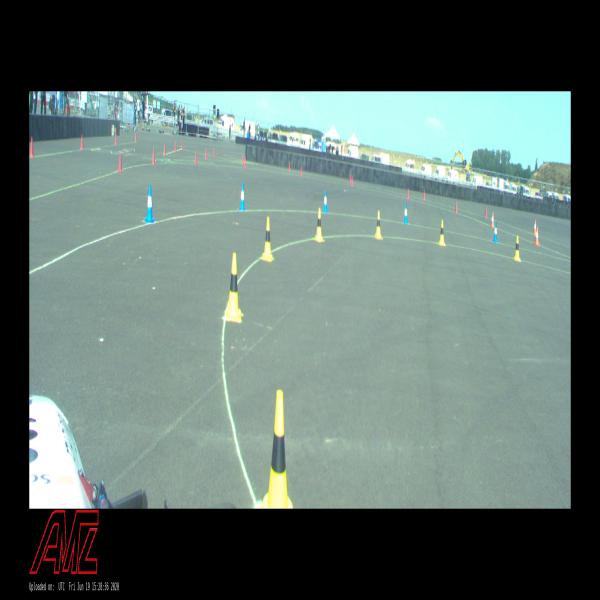blue_cone: (144, 185, 156, 223), (239, 183, 246, 210), (322, 190, 327, 213), (403, 203, 408, 224), (493, 222, 498, 242)
orange_cone: (534, 227, 540, 246), (490, 212, 494, 228), (532, 220, 536, 234)
unknown_cone: (29, 137, 34, 156), (118, 153, 122, 172), (80, 134, 84, 150), (152, 149, 156, 165), (163, 144, 166, 154), (195, 151, 197, 164), (351, 175, 353, 186), (407, 188, 409, 199), (455, 202, 457, 213), (485, 206, 487, 217), (115, 134, 117, 144), (135, 132, 137, 142), (205, 149, 207, 159), (213, 148, 215, 158), (300, 166, 302, 176), (423, 190, 425, 200), (289, 162, 291, 171), (175, 141, 176, 152), (245, 157, 246, 168), (242, 154, 243, 164), (350, 173, 351, 182)
yellow_cone: (259, 390, 293, 508), (226, 253, 241, 322), (262, 217, 273, 262), (315, 208, 323, 242), (438, 220, 446, 246), (375, 210, 382, 238), (514, 236, 521, 262)
